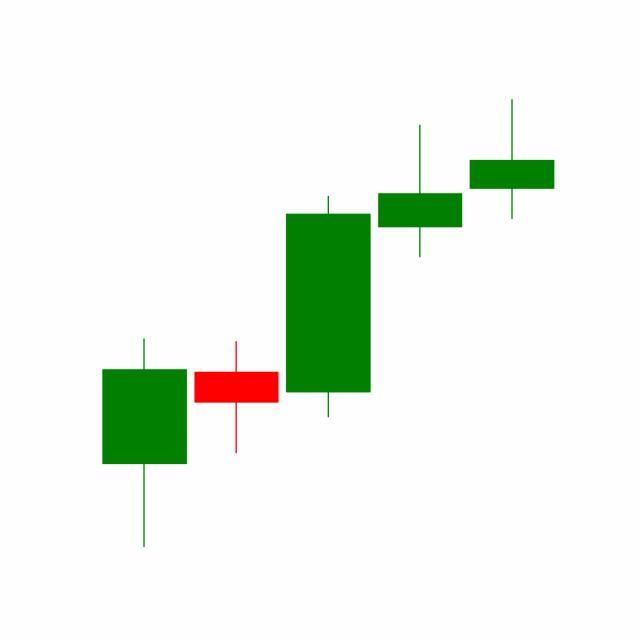Advance Block: (280, 100, 555, 424)
